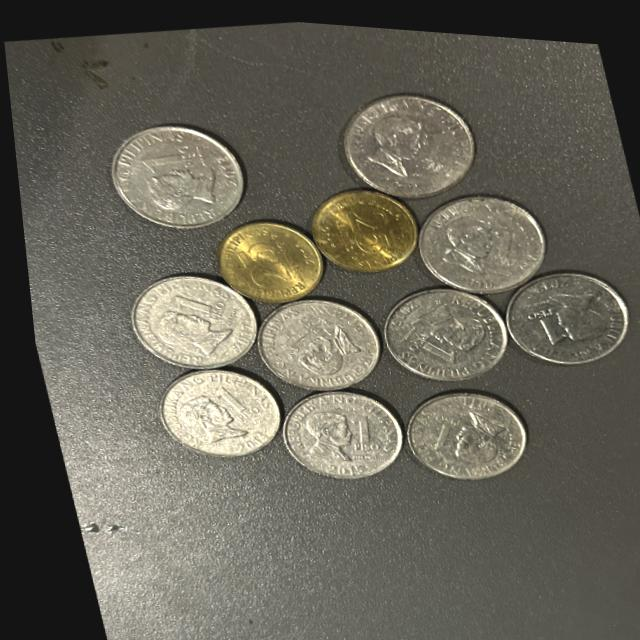1_Old_Front: (484, 250, 630, 363), (380, 365, 519, 482), (150, 355, 285, 461), (244, 286, 384, 388), (112, 116, 237, 221), (135, 268, 256, 368), (383, 278, 506, 372), (272, 386, 395, 474)
25Cent_Old_Front: (299, 183, 410, 272), (215, 214, 323, 297)
